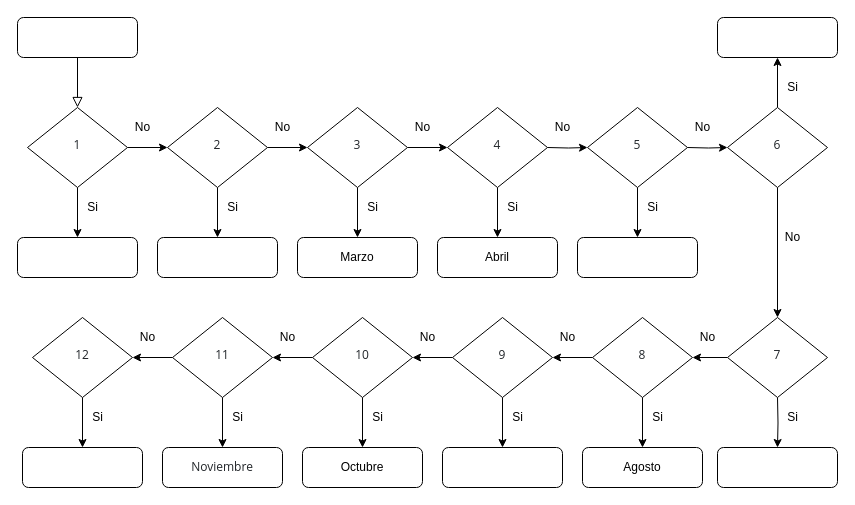
This 855x505 diagram has some shape labels left out. Each missing label, with the centre of its shape:
"Diciembre" belongs at (82,467).
"Enero" belongs at (77,257).
"Febrero" belongs at (217,257).
"Julio" belongs at (777,467).
"Junio" belongs at (777,37).
"Mayo" belongs at (637,257).
"mes (m)" belongs at (77,37).
"Septiembre" belongs at (502,467).
